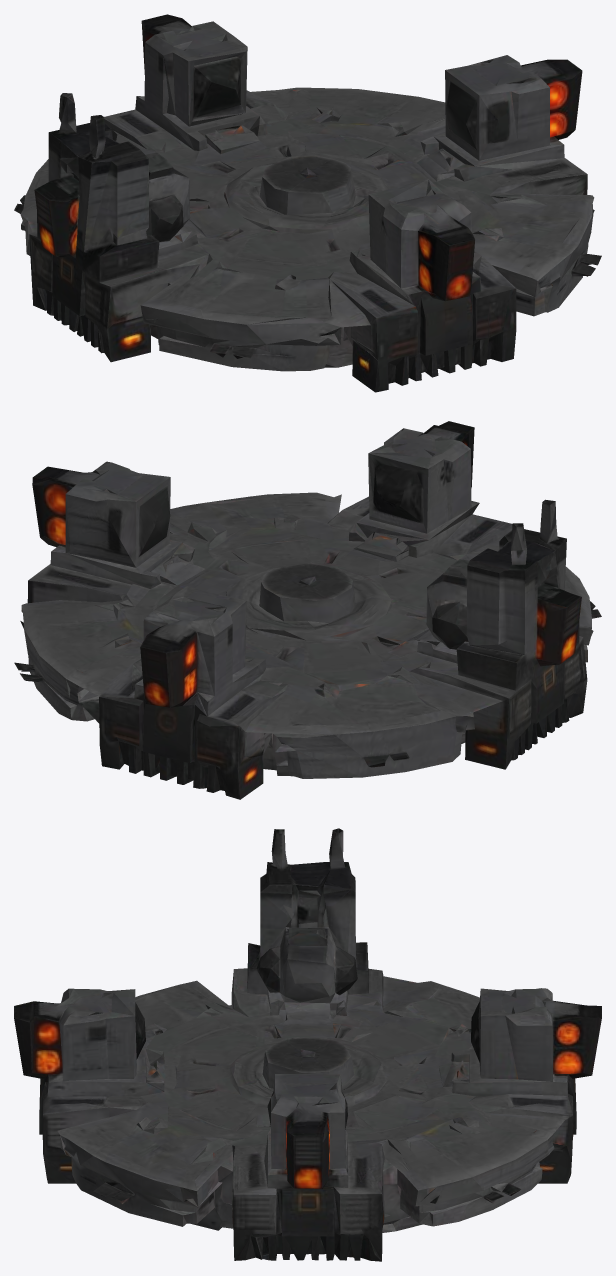
File: nation-t-fortress.glb
3 views of the same model, one above another, from view 1: azimuth 30°, elevation 25°; view 2: azimuth 150°, elevation 25°; view 3: azimuth 270°, elevation 25° (orthographic). The views are drawn at different scales.
Size of the model in its own units: 1.9 by 0.7747 by 1.9.
1 material, 1 textured.
